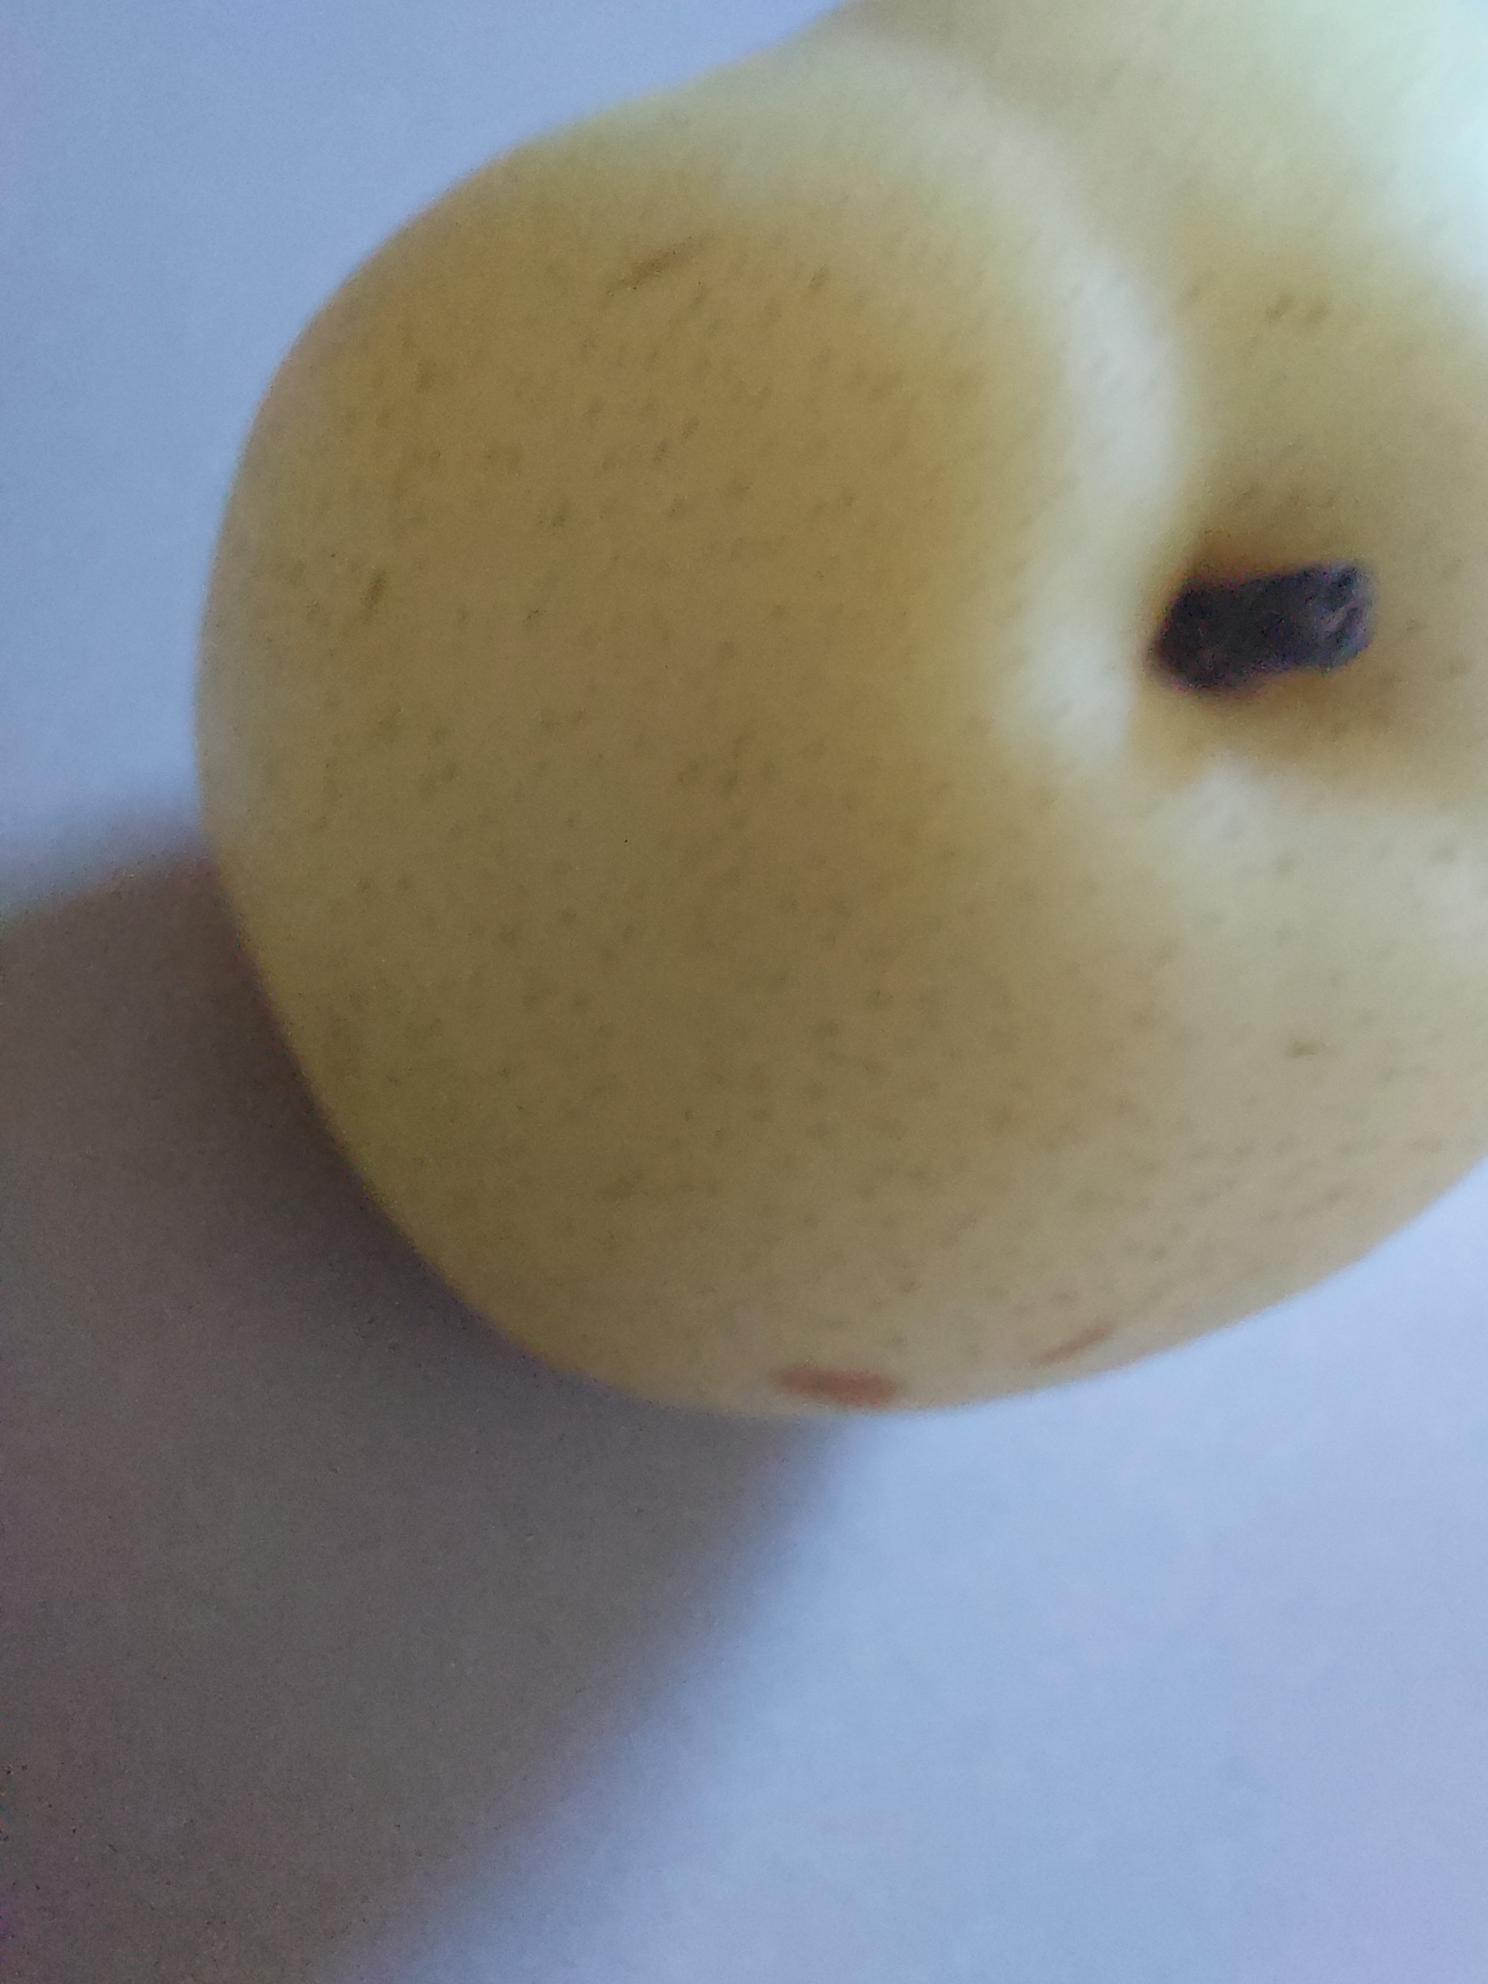Good Pear: (192, 0, 1488, 1450)
